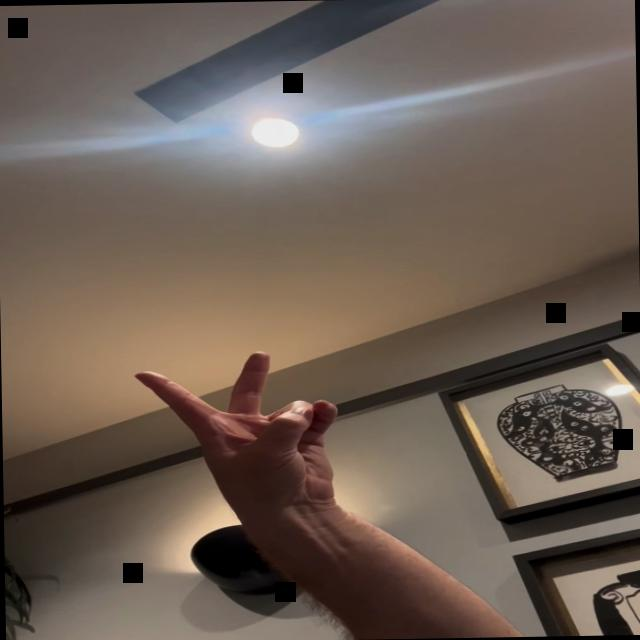Scissors: (133, 349, 340, 516)
